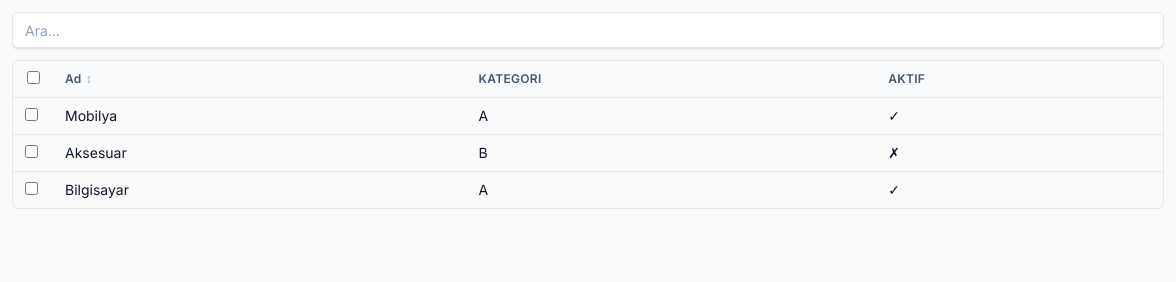
Test: ModuleList › 6. Bulk select 2 → BulkActionBar + "2 seçildi"
Click the 1st checkbox named "satır seç": click(32, 114) [25,108,38,121]
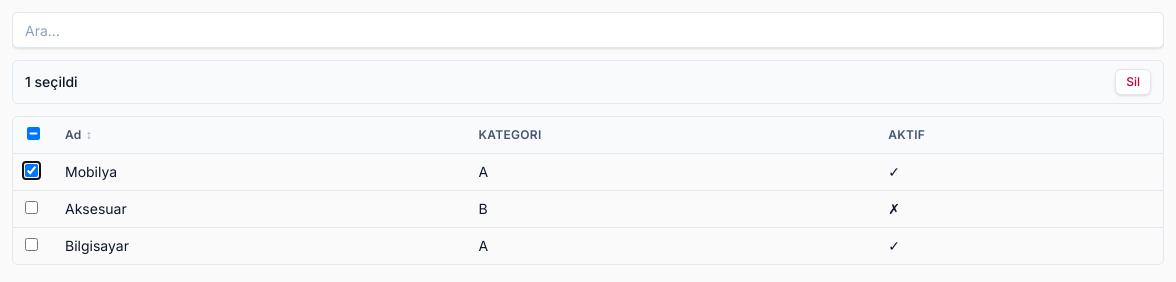
Click the 2nd checkbox named "satır seç": click(32, 208) [25,201,38,214]
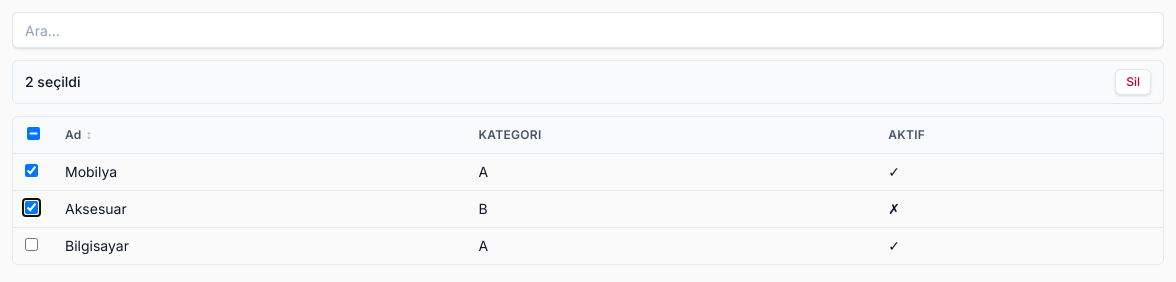
expect the element named "toplu işlemler" is shown: met, box [12,60,1164,104]
expect the text "2 seçildi" is shown: met, box [25,72,80,92]
